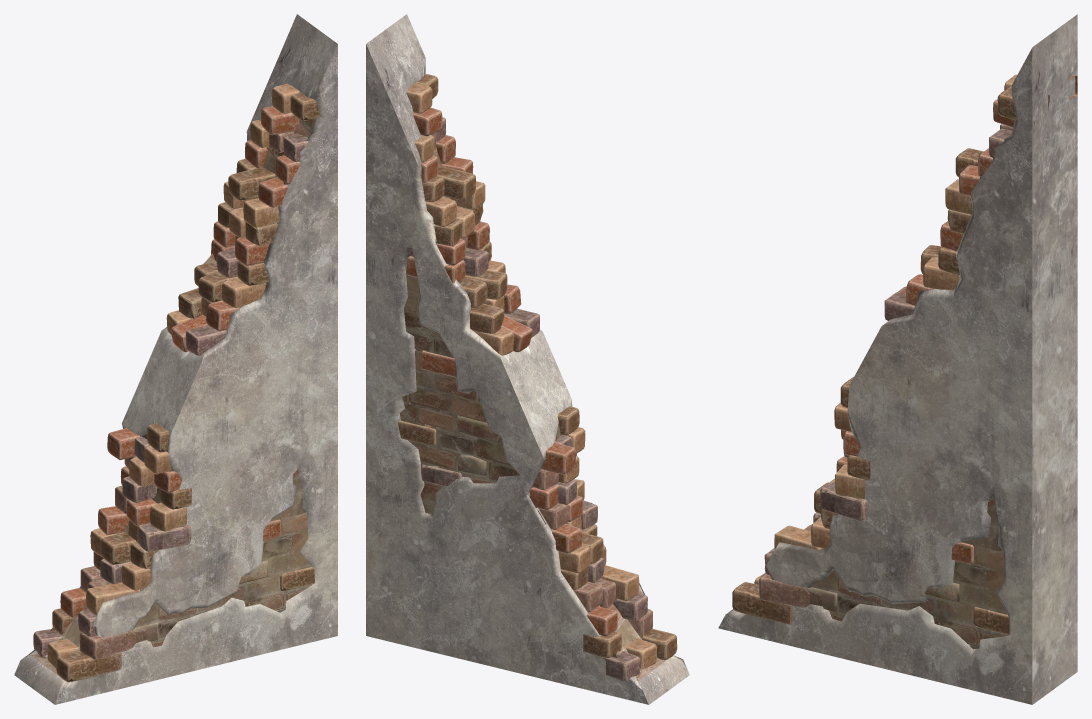
3 renders of one model, left to right at view 1: azimuth 30°, elevation 25°; view 2: azimuth 150°, elevation 25°; view 3: azimuth 330°, elevation 25°, orthographic. The views are drawn at different scales.
Visible parts, largest first — view 1: SM_Human_Ruins_Wall_Corner_2x4_Dmg_01_LOD0; view 2: SM_Human_Ruins_Wall_Corner_2x4_Dmg_01_LOD0; view 3: SM_Human_Ruins_Wall_Corner_2x4_Dmg_01_LOD0.
Part boxes in pixels (x1=…): SM_Human_Ruins_Wall_Corner_2x4_Dmg_01_LOD0: x1=14, y1=14, x2=337, y2=704; SM_Human_Ruins_Wall_Corner_2x4_Dmg_01_LOD0: x1=366, y1=14, x2=689, y2=704; SM_Human_Ruins_Wall_Corner_2x4_Dmg_01_LOD0: x1=718, y1=14, x2=1077, y2=704.
Size of the model in its own units: 2.02 by 4 by 0.5639.
3 materials, 3 textured.
